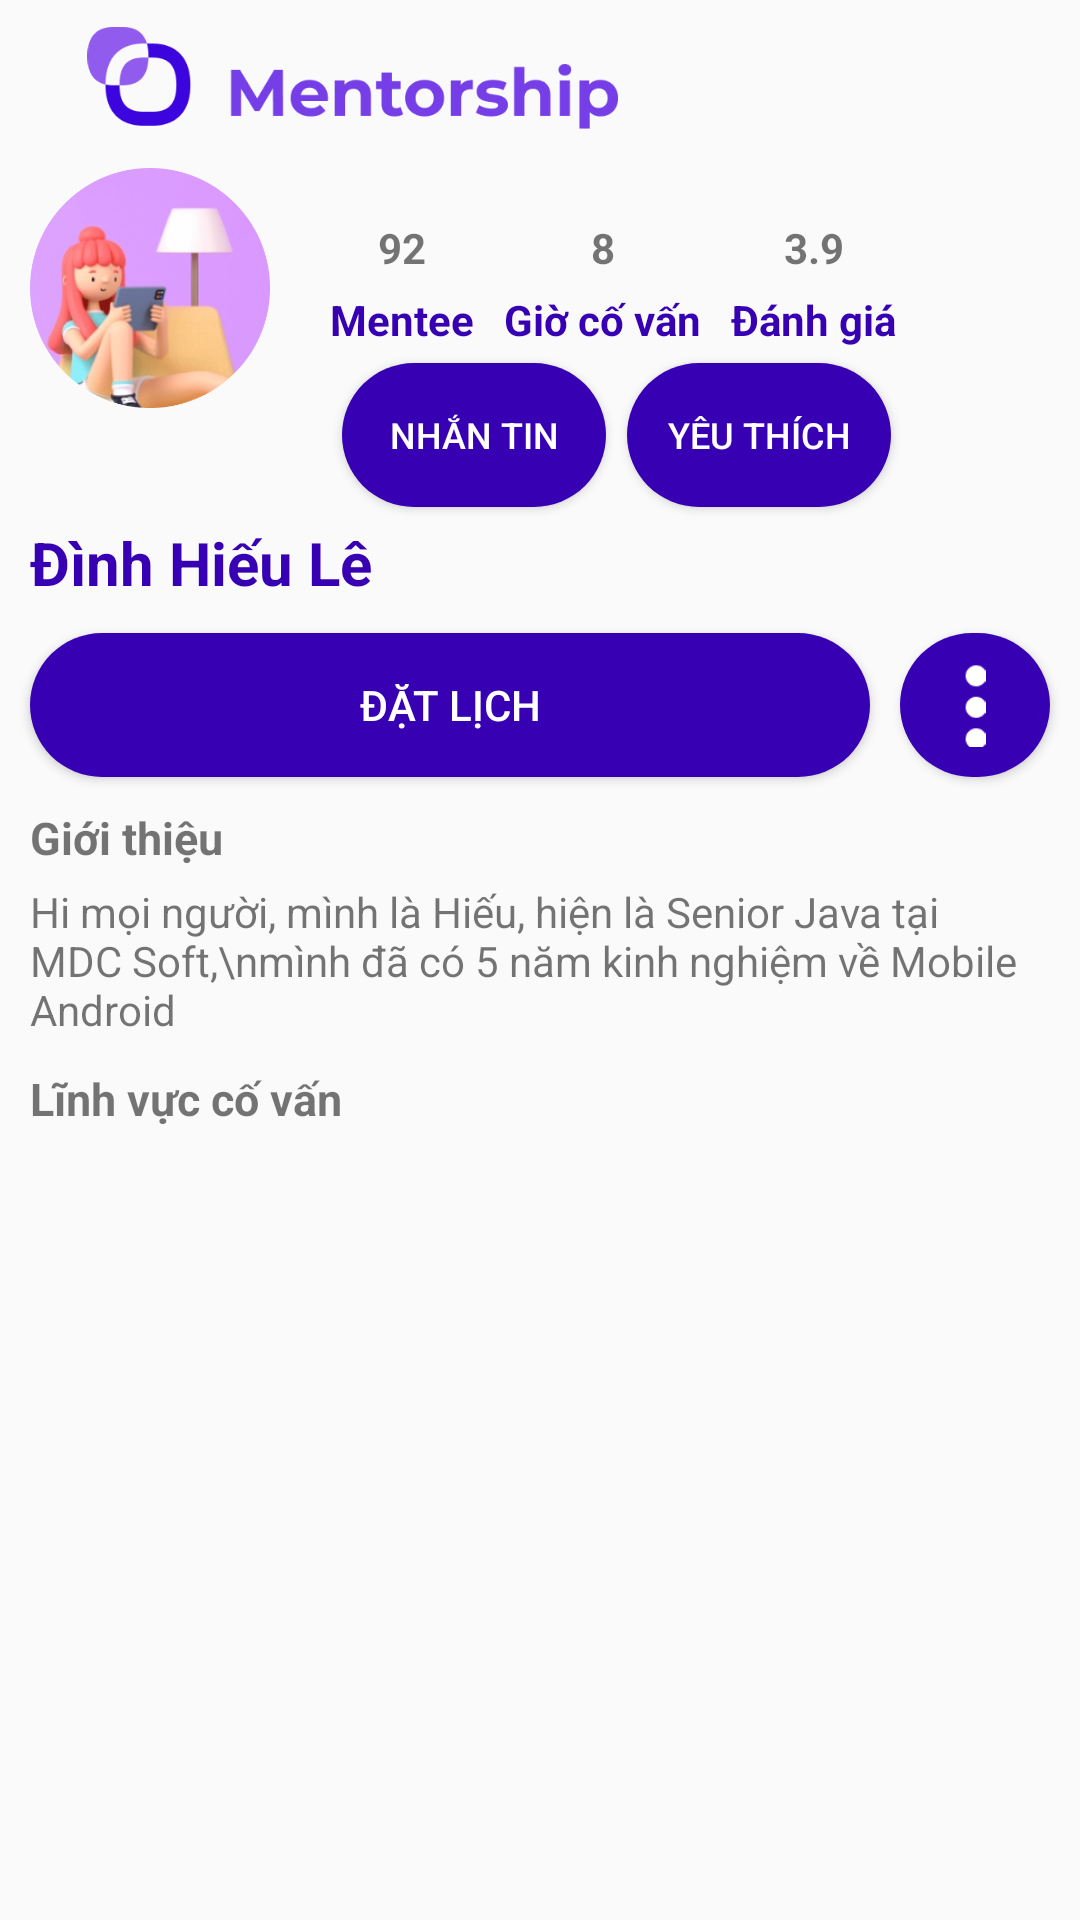

Icon bounding boxes for this 1080px×1920px phone screenshot, format (x1, y1, x2, y2):
three dots: (900, 633, 1050, 777)
